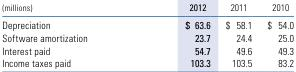table: (1, 1, 292, 68)
table column: (1, 1, 135, 68), (135, 1, 217, 68), (217, 1, 258, 68), (258, 1, 292, 68)
table column header: (1, 1, 292, 15)
table row: (1, 15, 292, 30), (1, 1, 292, 15), (1, 30, 292, 43), (1, 43, 292, 56), (1, 56, 292, 68)
